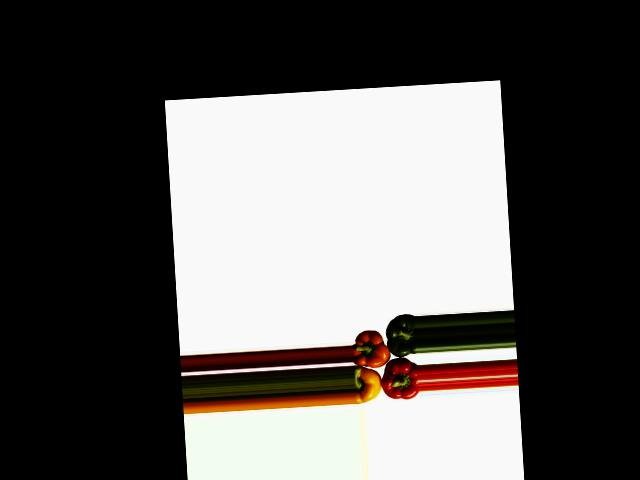bell_pepper: (352, 362, 384, 404)
